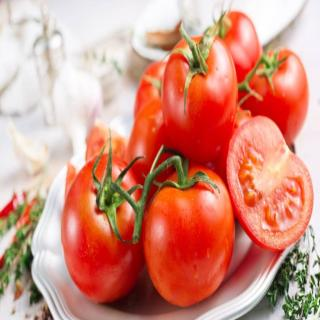Tomat: (143, 155, 236, 309), (227, 116, 315, 254), (162, 10, 240, 163), (238, 47, 310, 148), (127, 60, 171, 189), (220, 10, 262, 85), (134, 59, 169, 123), (86, 123, 130, 164)
